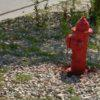Hydrant: (60, 7, 94, 80)
